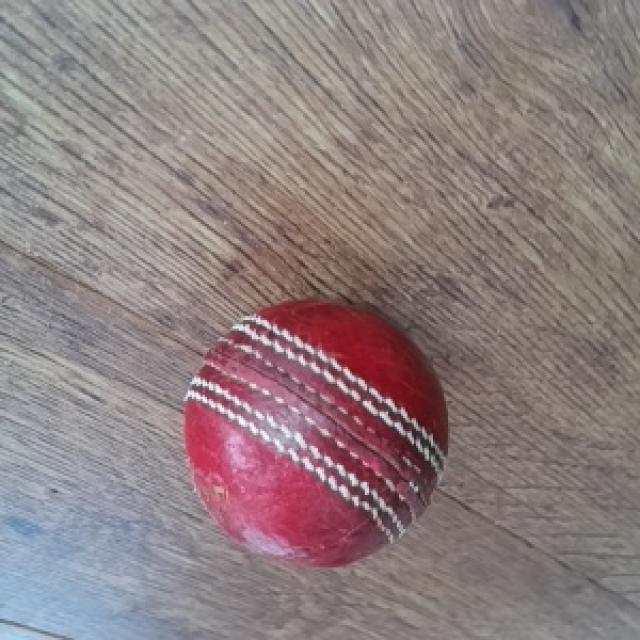ball: (172, 300, 448, 580)
